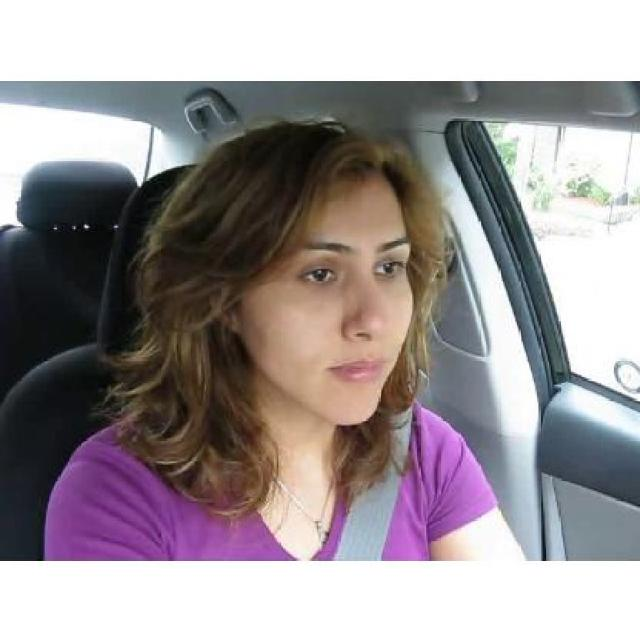attentif: (213, 122, 415, 426)
